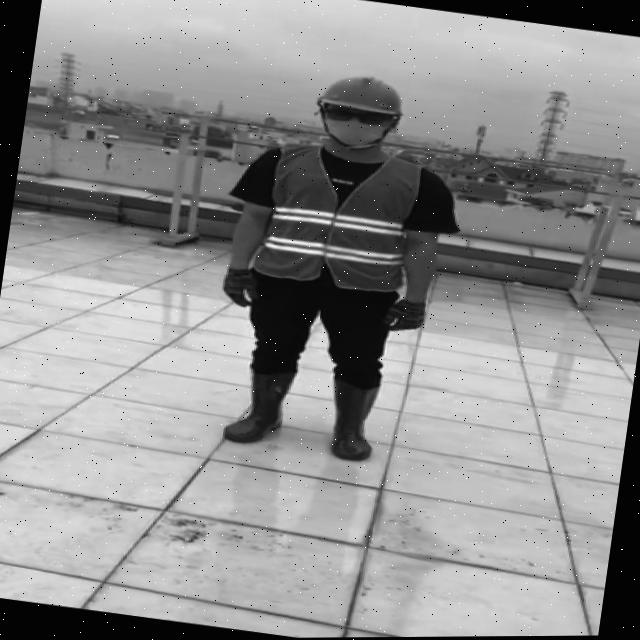goggles_on: (320, 103, 398, 125)
